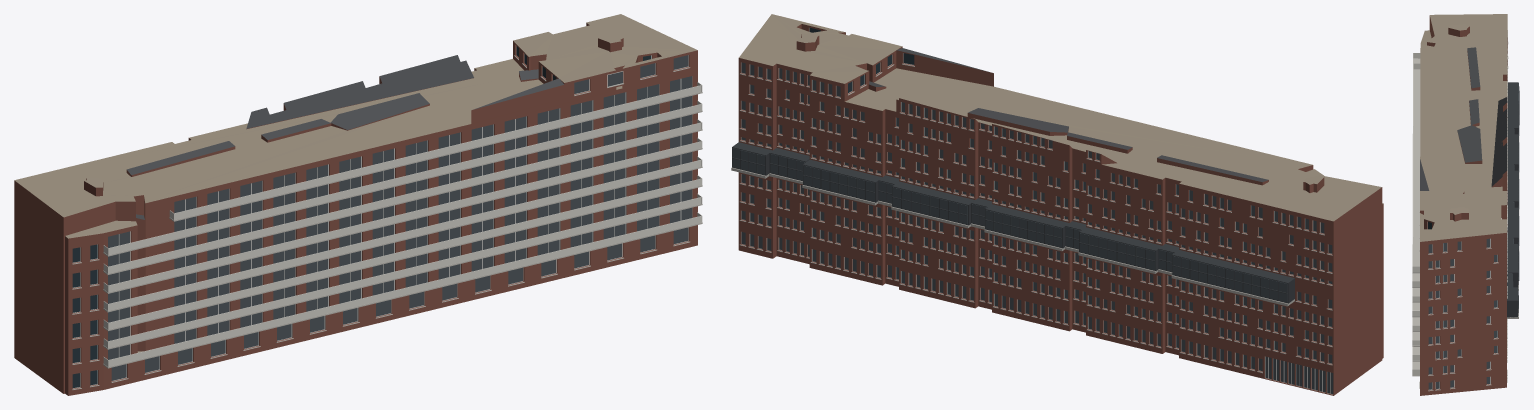
File: recipe-large-haarlemmerweg-217-101656.glb
The picture shows the model from 3 angles, left to right: view 1: azimuth 30°, elevation 25°; view 2: azimuth 150°, elevation 25°; view 3: azimuth 270°, elevation 25°; orthographic projection. The views are drawn at different scales.
Parts seen in each view (by area): view 1: haarlemmerweg-217-101656; view 2: haarlemmerweg-217-101656; view 3: haarlemmerweg-217-101656.
Part boxes in pixels (<box>): haarlemmerweg-217-101656: <box>14,14,702,395</box>; haarlemmerweg-217-101656: <box>731,14,1383,395</box>; haarlemmerweg-217-101656: <box>1412,14,1519,395</box>.
Size of the model in its own units: 95.27 by 29.64 by 17.85.
